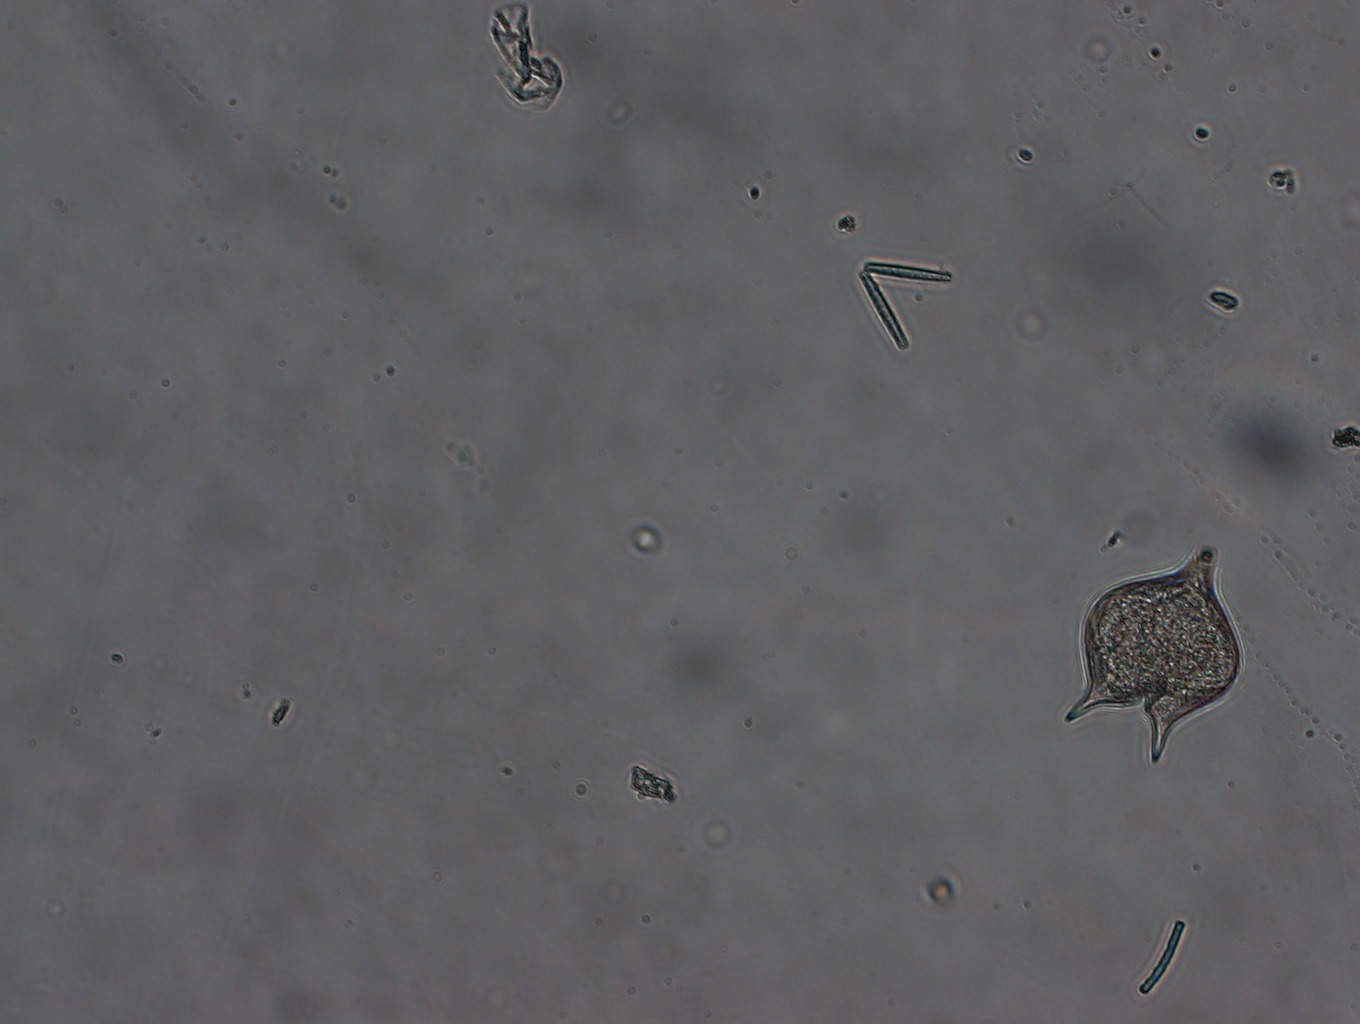protoperidinium: (1063, 547, 1245, 764)
thalassionema nitzschioides: (855, 256, 955, 352)
